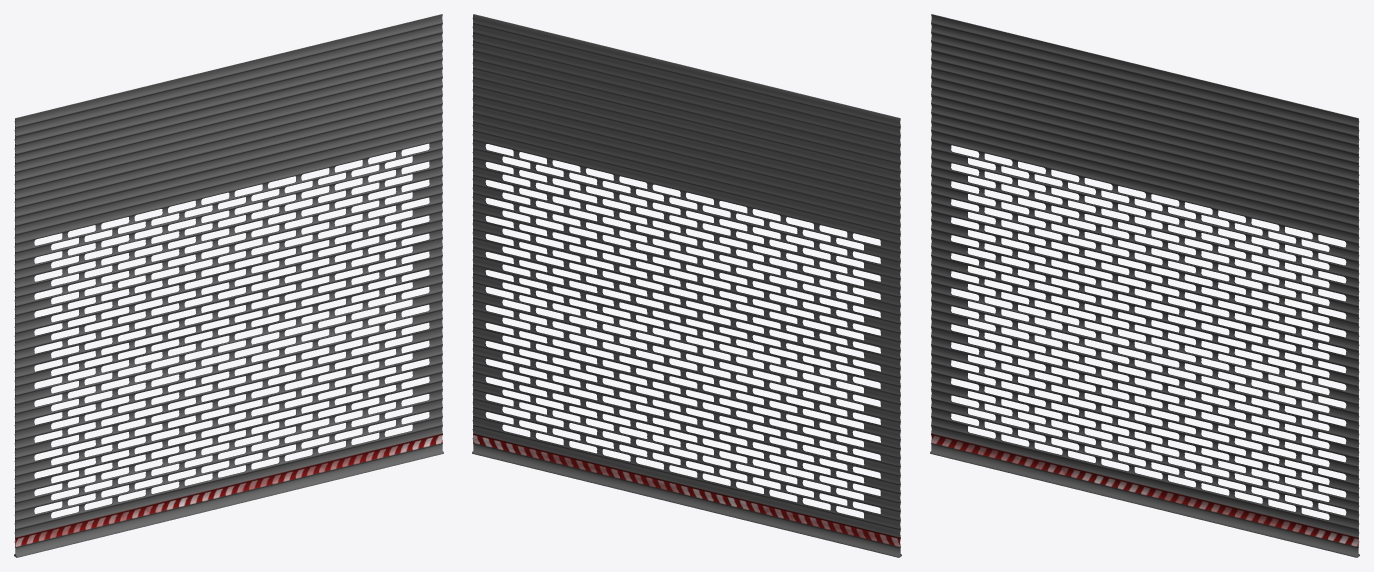
File: SM_RollerShutter.fbx
The picture shows the model from 3 angles, left to right: view 1: azimuth 30°, elevation 25°; view 2: azimuth 150°, elevation 25°; view 3: azimuth 330°, elevation 25°; orthographic projection.
Parts seen in each view (by area): view 1: RollerShutter; view 2: RollerShutter; view 3: RollerShutter.
Boxes of the visible parts, x1,y1,x2,y2 form: RollerShutter: [14, 14, 443, 557]; RollerShutter: [472, 14, 901, 557]; RollerShutter: [930, 14, 1359, 557].
Bounding box in the file's own units: 550 × 6 × 540.
Materials: 1 (1 with a texture image).
